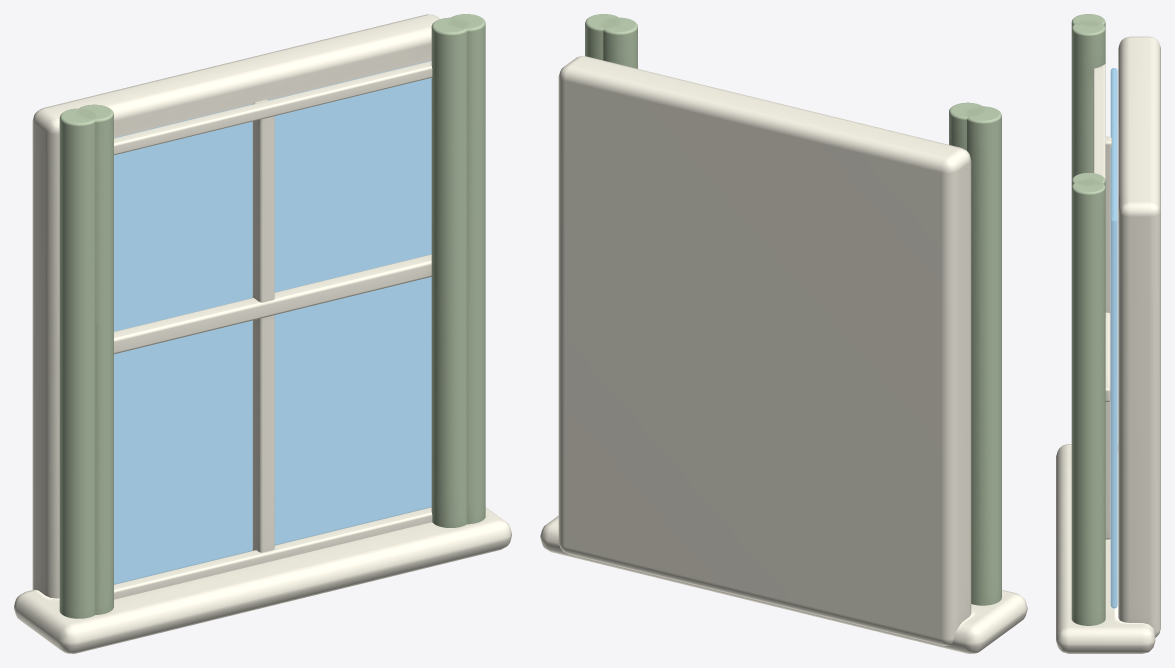
Rendered from window7A.glb.
3 views of the same model, side by side, from view 1: azimuth 30°, elevation 25°; view 2: azimuth 150°, elevation 25°; view 3: azimuth 270°, elevation 25° (orthographic). The views are drawn at different scales.
Parts seen in each view (by area): view 1: Window glass, Window frame, Sill, Curtain fold, Curtain fold.003, Curtain fold.002, Curtain fold.001, Window muntin, Window crossbar, Opening sash rail.001, Opening sash rail; view 2: Window frame, Curtain fold, Sill, Curtain fold.003, Curtain fold.002, Curtain fold.001; view 3: Window frame, Curtain fold.002, Sill, Window glass, Curtain fold.001, Window muntin, Opening sash rail.001, Window crossbar, Curtain fold, Curtain fold.003.
Boxes of the visible parts, x1,y1,x2,y2 form: Window glass: (114,60,431,584); Window frame: (32,14,440,598); Sill: (14,507,511,653); Curtain fold: (59,108,95,618); Curtain fold.003: (431,17,467,527); Curtain fold.002: (449,14,485,524); Curtain fold.001: (78,104,113,614); Window muntin: (252,99,274,552); Window crossbar: (114,254,431,354); Opening sash rail.001: (114,61,432,155); Opening sash rail: (114,507,432,599); Window frame: (558,56,971,645); Curtain fold: (966,106,1001,605); Sill: (540,515,1027,653); Curtain fold.003: (603,17,637,68); Curtain fold.002: (585,14,619,60); Curtain fold.001: (949,102,983,150); Window frame: (1118,36,1160,637); Curtain fold.002: (1071,179,1105,625); Sill: (1056,444,1155,653); Window glass: (1110,68,1117,608); Curtain fold.001: (1071,20,1105,179); Window muntin: (1105,136,1111,539); Opening sash rail.001: (1093,64,1105,180); Window crossbar: (1105,312,1110,402); Curtain fold: (1071,14,1105,27); Curtain fold.003: (1071,172,1105,186).
Bounding box in the file's own units: 1.61 × 1.78 × 0.37.
